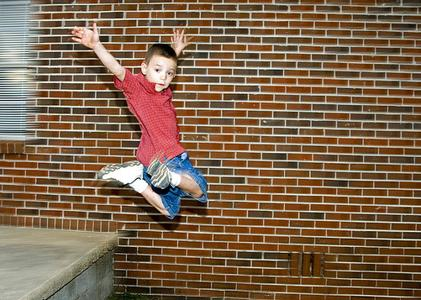person: (68, 21, 213, 218)
